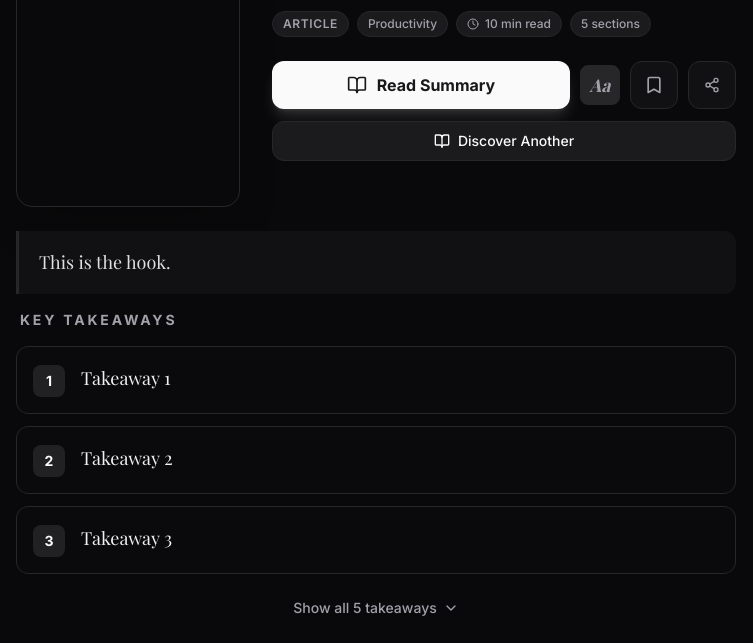
Test: ContentPreview › replaces the reveal control with Back to top after expansion
(page scrolled)
Click the button "Show all 5 takeaways": x=376, y=608 [277,590,475,626]
(page scrolled)
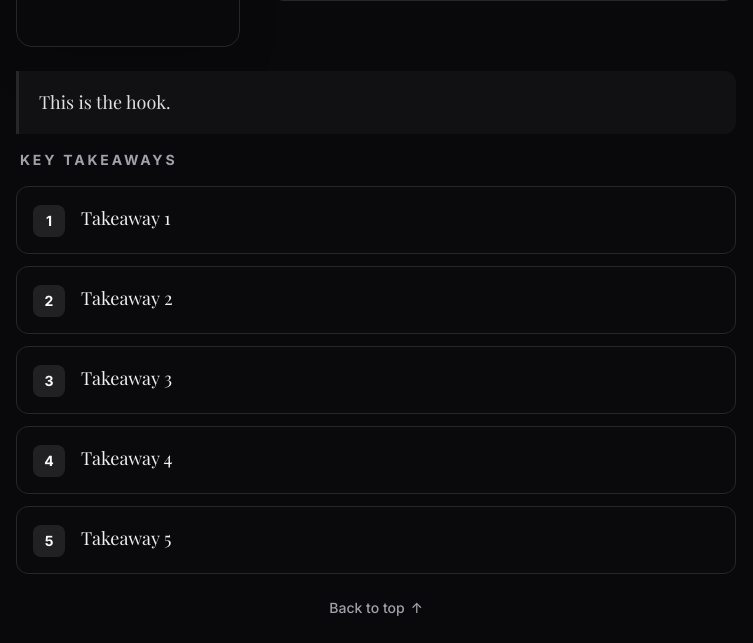
Expected: the button "Show all" is gone
Expected: the text "Takeaway 5" is shown, [81,523,171,554]
